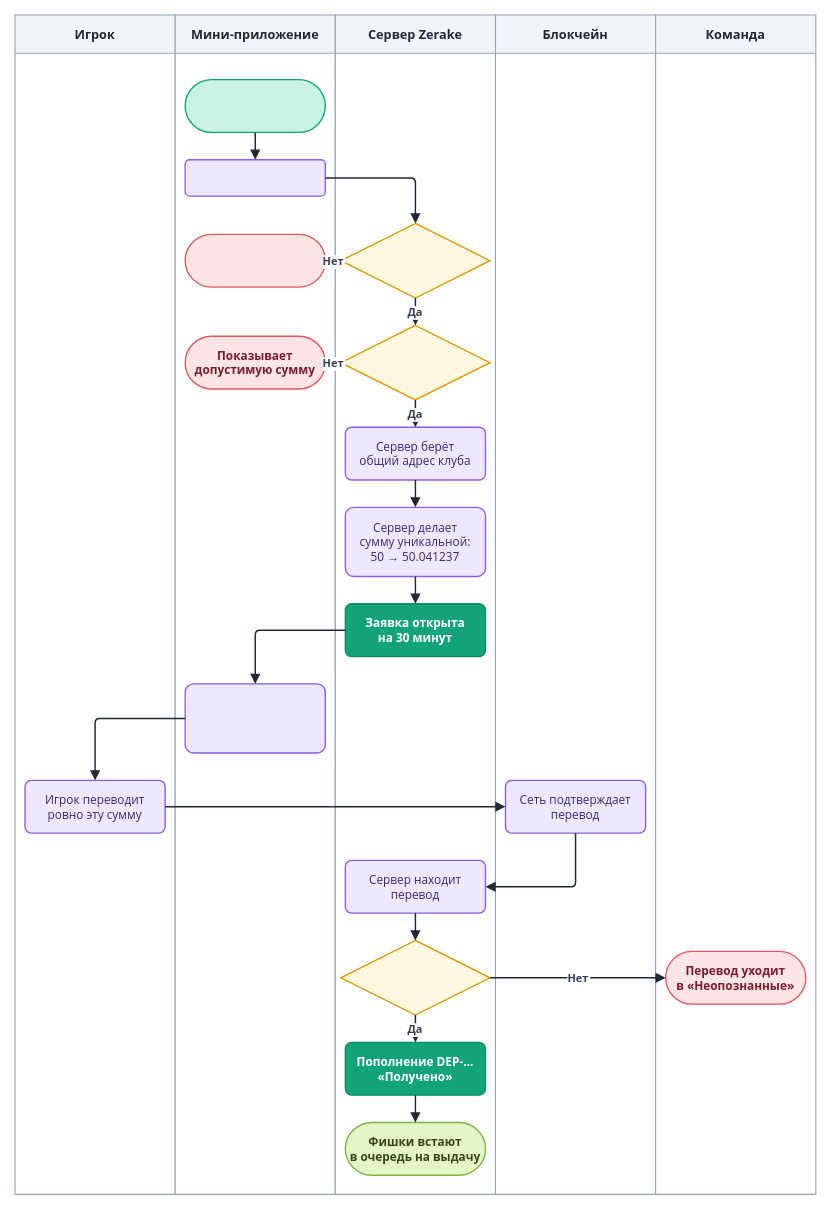
The diagram is 831 pixels wide and 1209 high, and some of its shapes have lost their labels. Here are the shapes that lost their labels. From the top down, the centre of each, then its label:
(255,106): Игрок выбирает TRC20 или BEP20
(255,177): Игрок вводит сумму
(255,260): Сначала привязать кошелёк
(415,260): Кошелёк в этой сети привязан?
(415,362): Сумма от 10 до 50 000 USDT?
(255,718): Приложение показывает адрес и точную сумму
(415,977): Есть заявка с этим адресом и суммой?
